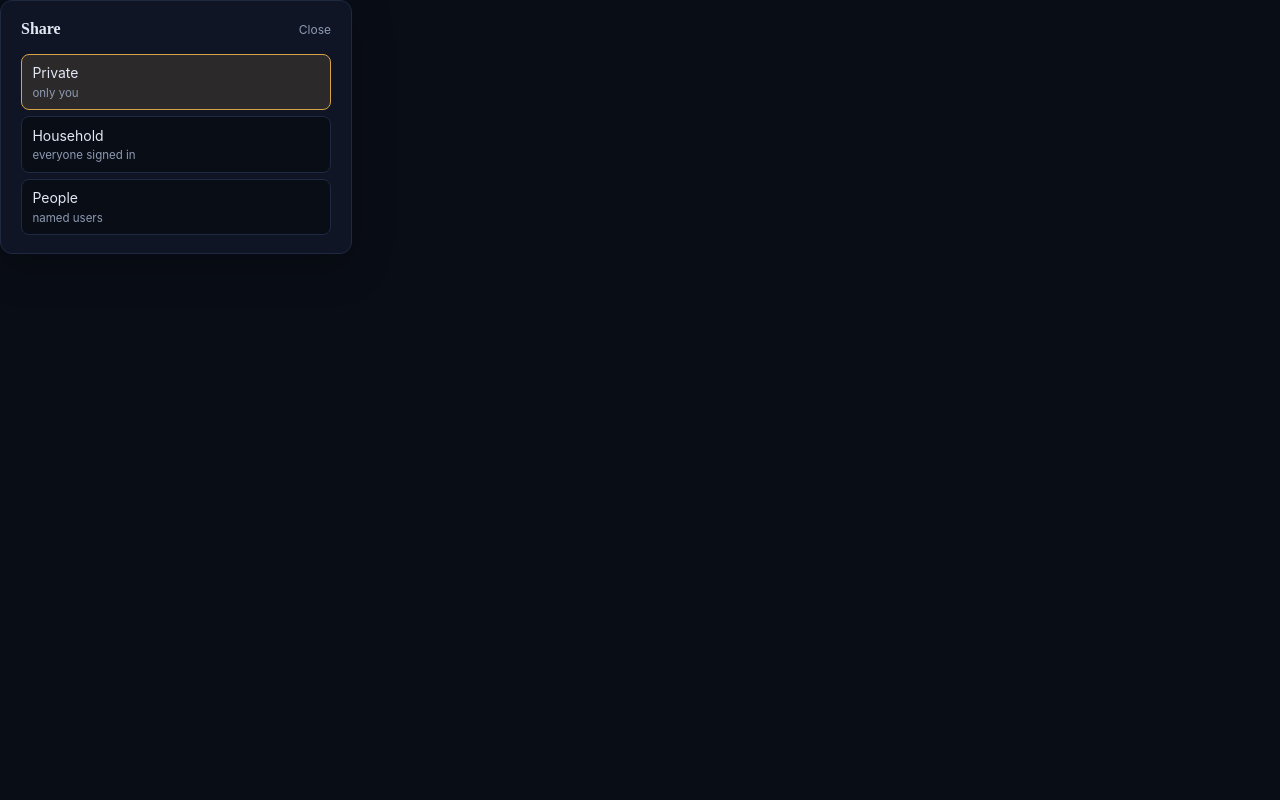
Scenario: ShareMenu › Household defaults to read; Write posts household-write and shows the act-as-you warning
Click the button "Household everyone signed in" at (68, 135), box [21, 116, 331, 173]
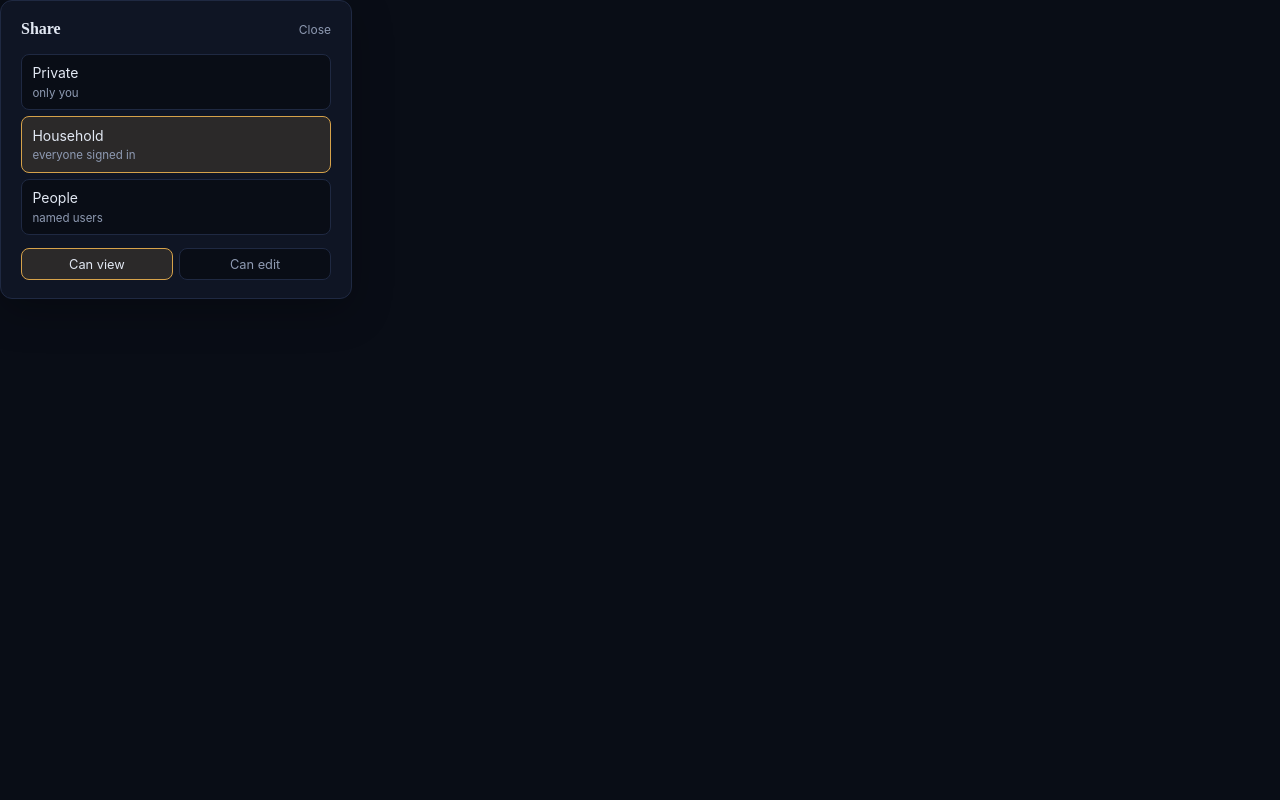
Click the button "Can edit" at (255, 264), box [179, 248, 331, 280]
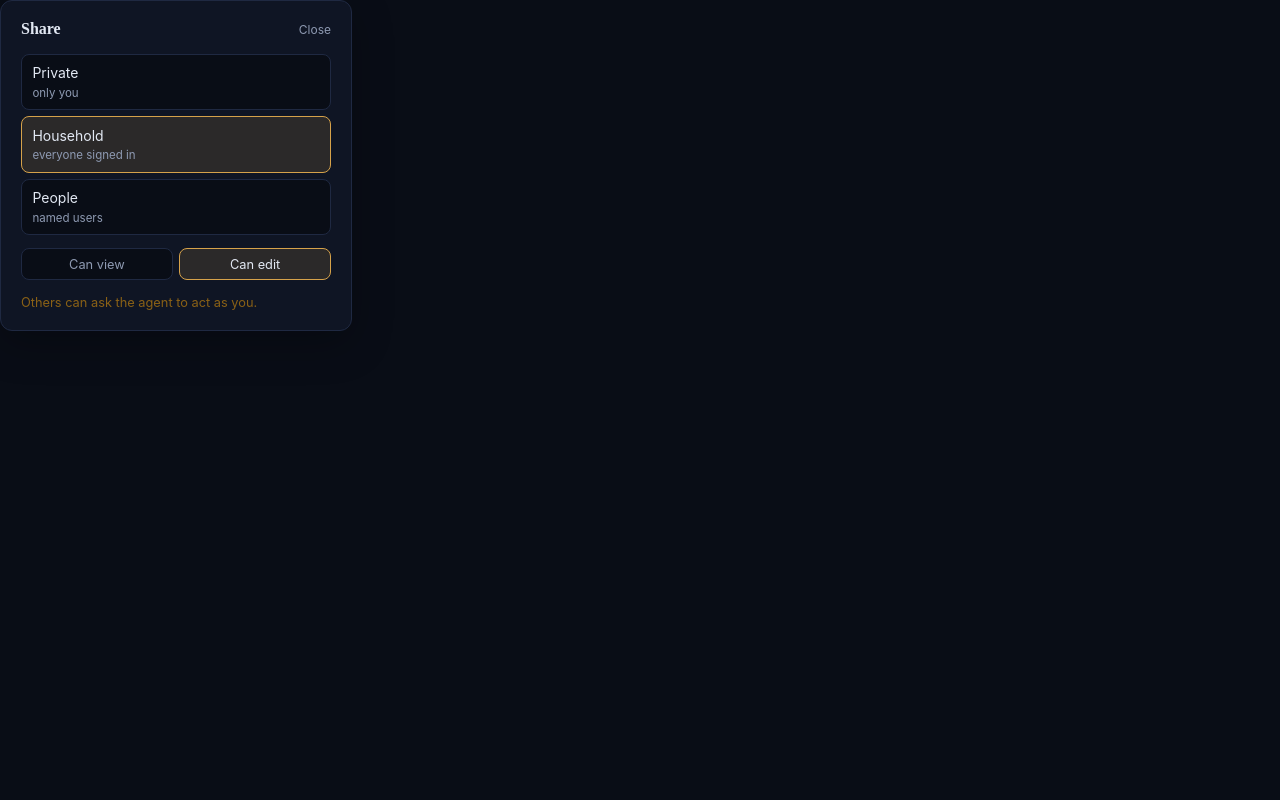
Expected: the text "Others can ask the agent to act as you." is shown, [21, 295, 257, 310]
